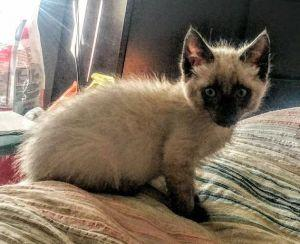siamese: (173, 18, 280, 136)
